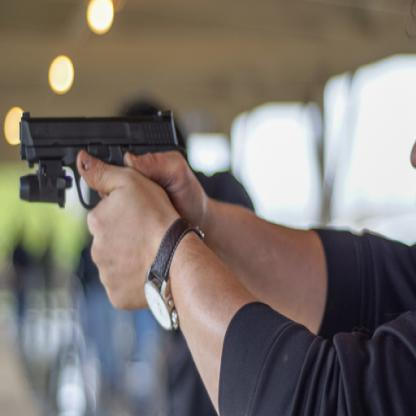gun: (17, 109, 184, 210)
